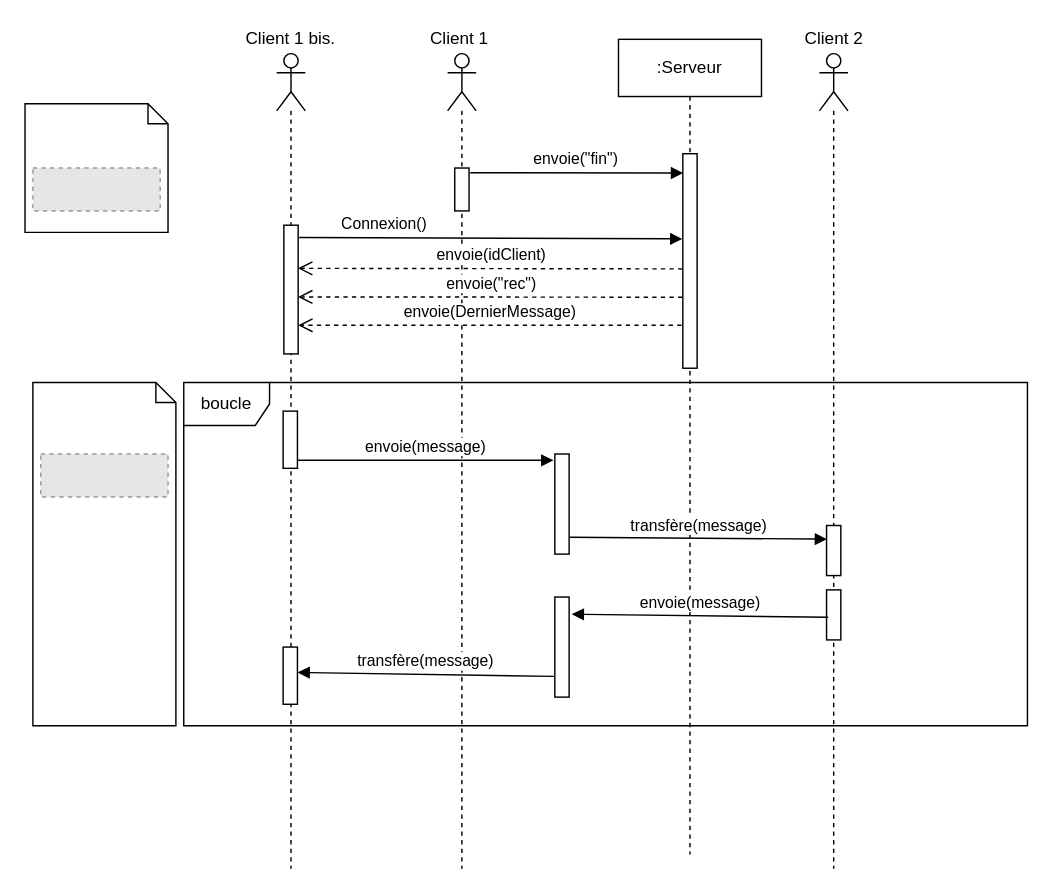
Image size: 1052x894. Some labels were removed from this diagram. Grey dashed boxes stand in for pictures. The shapes that lost their labels are listed below. From the top down, each one's box as (x1, y1, x2, y2) in pixels, then its label:
(24, 102, 168, 232): Le client 1 se déconnecte via
(31, 381, 176, 726): On sort de la boucle via
